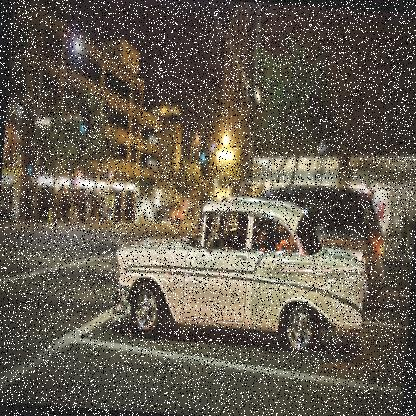Car: (110, 190, 369, 355), (205, 178, 388, 304)
